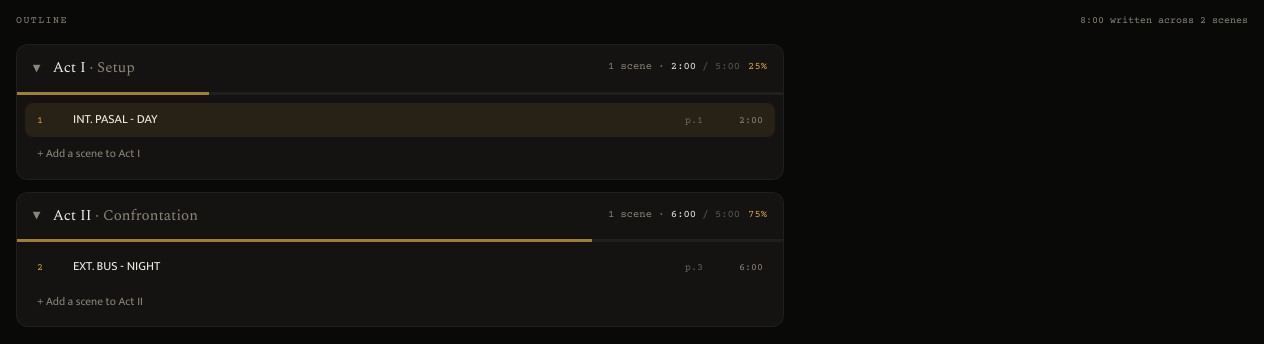
Test case: the tree › collapses and expands an act
Click the button "▶ Act I · Setup 1 scene · 2:00 / 5:0025%": (116, 68) [17,45,783,92]
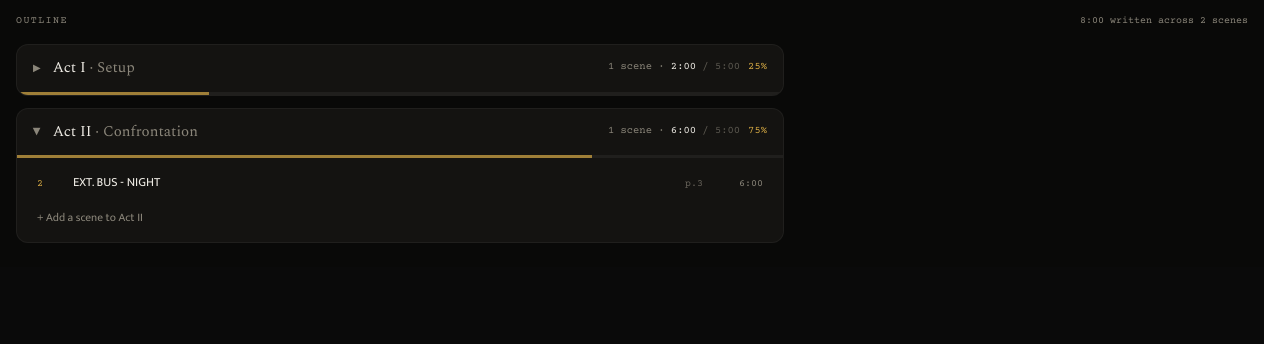
Expected: the text "EXT. BUS - NIGHT" is shown, [73,172,160,193]
Now the button "INT. PASAL - DAY" is gone
